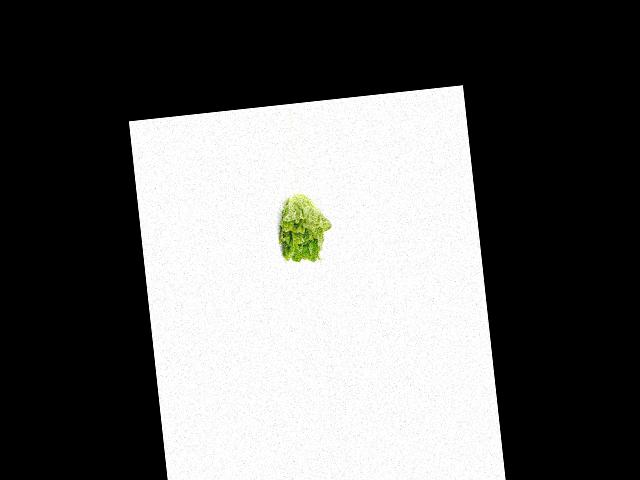lettuce: (270, 190, 334, 265)
